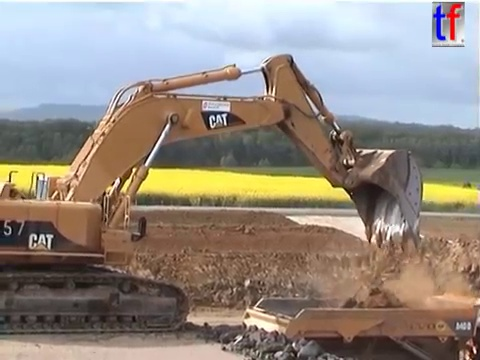excavator: (1, 50, 427, 338)
truck: (238, 289, 480, 360)
